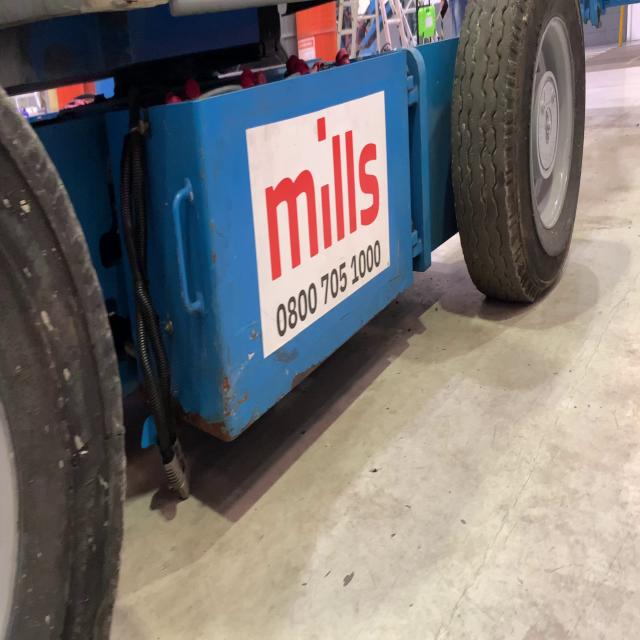Adesivos: (243, 84, 393, 363)
